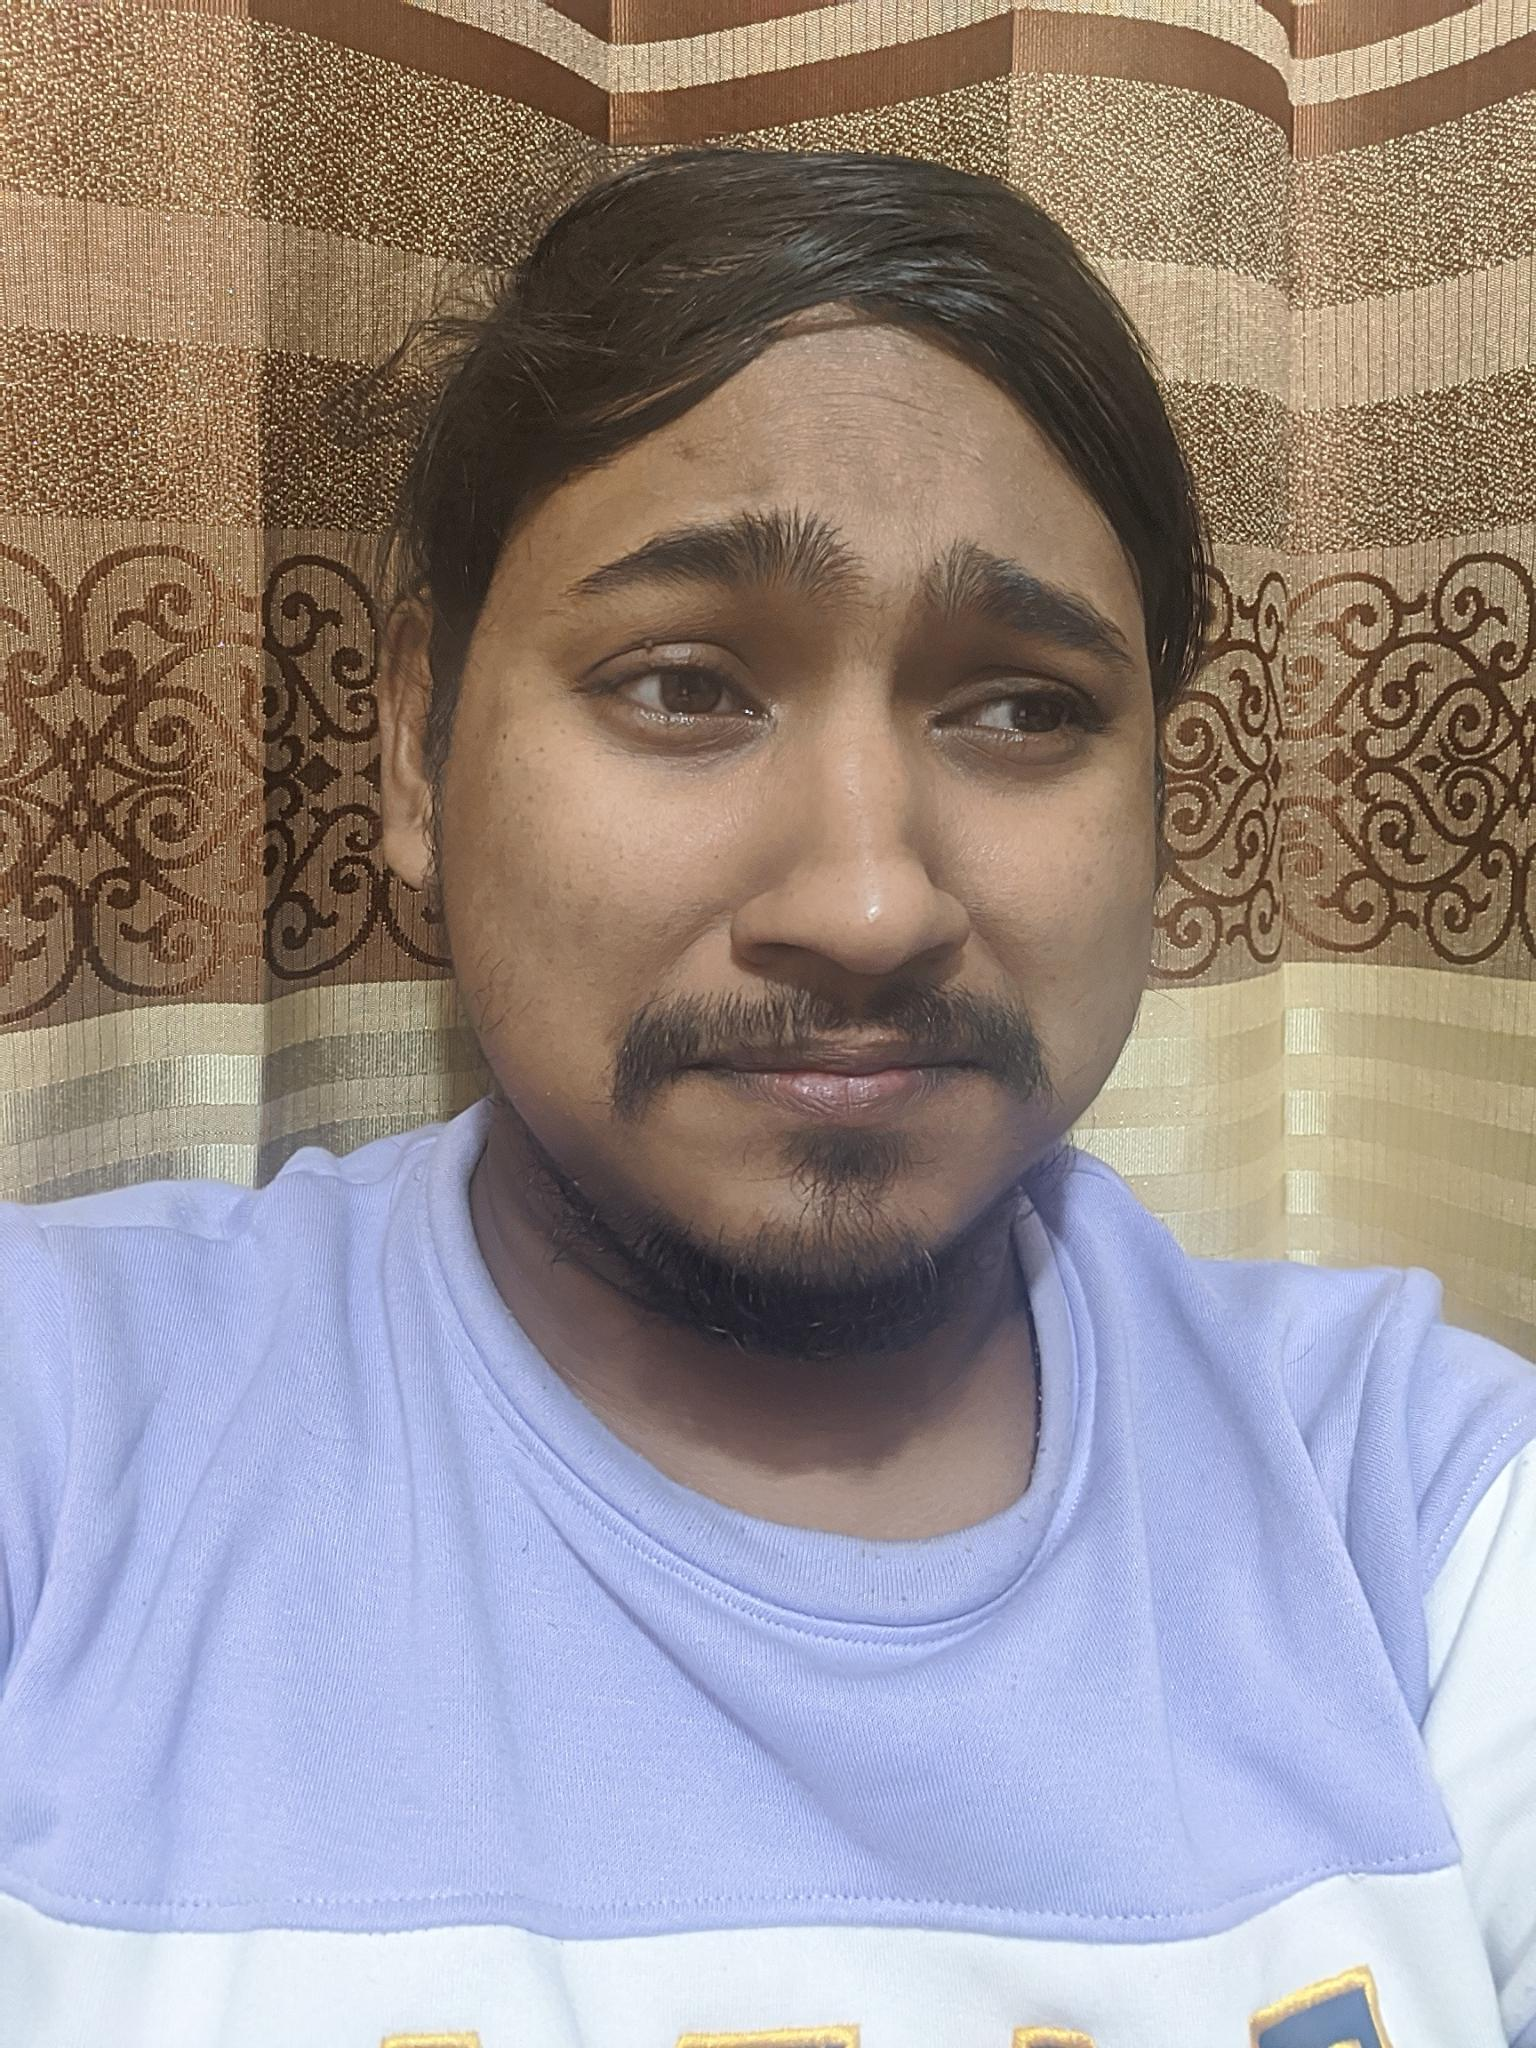Sad: (526, 405, 1176, 1337)
